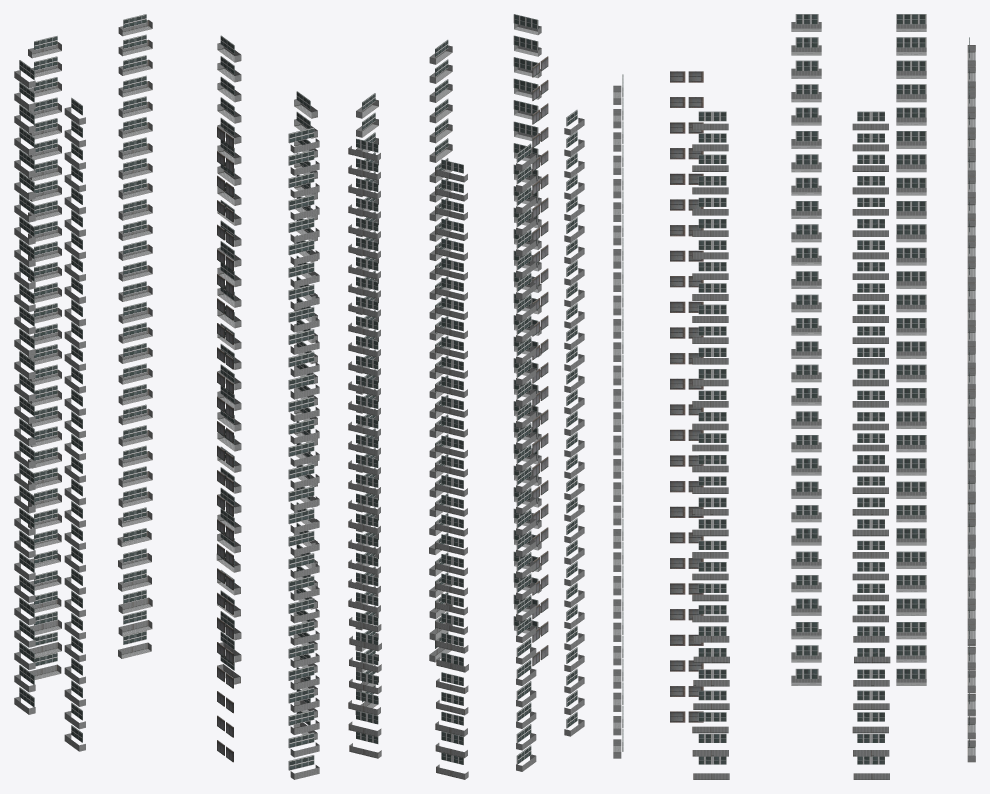
3 renders of one model, left to right at view 1: azimuth 30°, elevation 25°; view 2: azimuth 150°, elevation 25°; view 3: azimuth 270°, elevation 25°, orthographic. The views are drawn at different scales.
Visible parts, largest first — view 1: bina.011; view 2: bina.011; view 3: bina.011.
Part boxes in pixels (x1=…): bina.011: x1=14, y1=14, x2=319, y2=779; bina.011: x1=348, y1=14, x2=584, y2=779; bina.011: x1=613, y1=14, x2=975, y2=779.
Size of the model in its own units: 12.99 by 41.87 by 20.39.
1 material, 1 textured.
